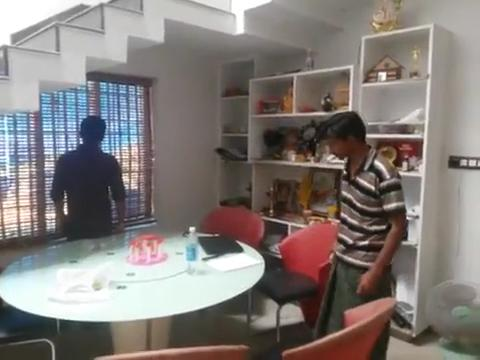chair: (246, 220, 339, 343), (280, 295, 397, 360), (198, 204, 265, 250)
closet_cabinet: (216, 22, 455, 344)
cup_glass_bottle: (126, 233, 169, 266)
floor: (1, 288, 443, 360), (1, 1, 237, 113)
paper_notebook: (197, 235, 262, 272)
person: (311, 111, 407, 341), (51, 115, 127, 241)
picture: (305, 168, 343, 218), (271, 179, 296, 214)
table_desk: (1, 231, 265, 354)
window: (1, 80, 146, 241)
